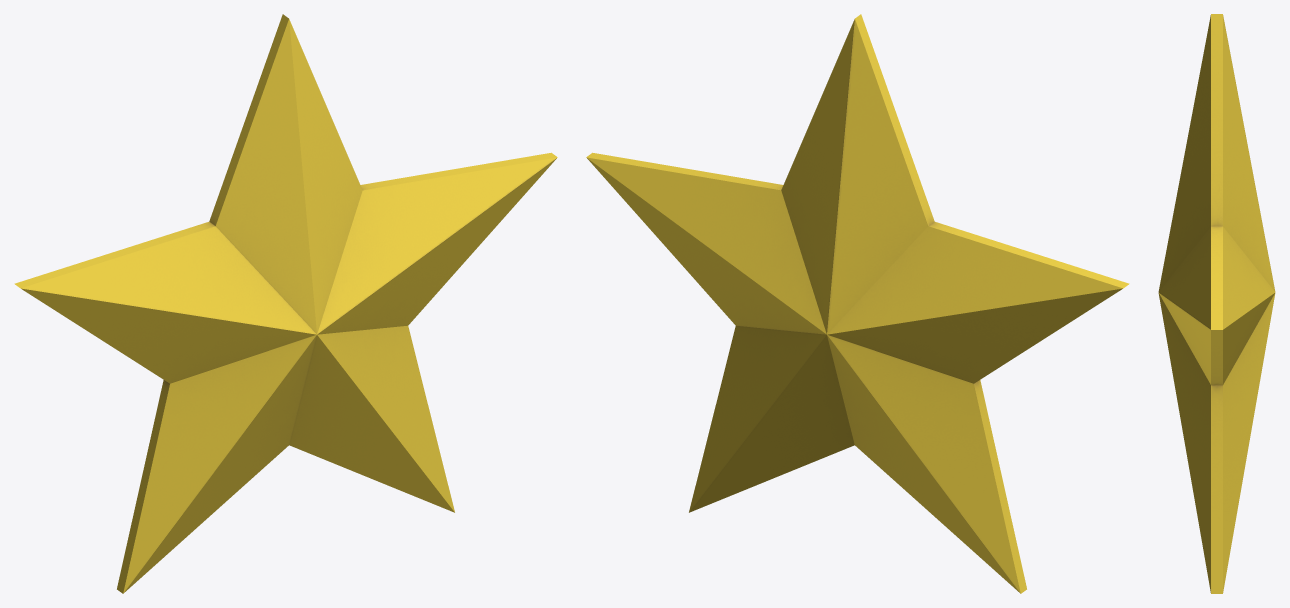
File: gold star.fbx
3 renders of one model, left to right at view 1: azimuth 30°, elevation 25°; view 2: azimuth 150°, elevation 25°; view 3: azimuth 270°, elevation 25°, orthographic. The views are drawn at different scales.
Visible parts, largest first — view 1: Star; view 2: Star; view 3: Star.
Part boxes in pixels (box(x1,y1,x2,y2)): Star: box(14, 14, 557, 593); Star: box(586, 14, 1129, 593); Star: box(1158, 14, 1275, 593).
Bounding box in the file's own units: 5724 × 5444 × 1146.
1 material, 1 textured.
